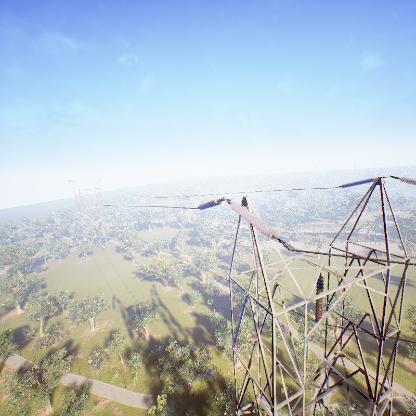insulator: (229, 200, 279, 241), (315, 274, 324, 330), (341, 177, 377, 188), (198, 198, 222, 210)
